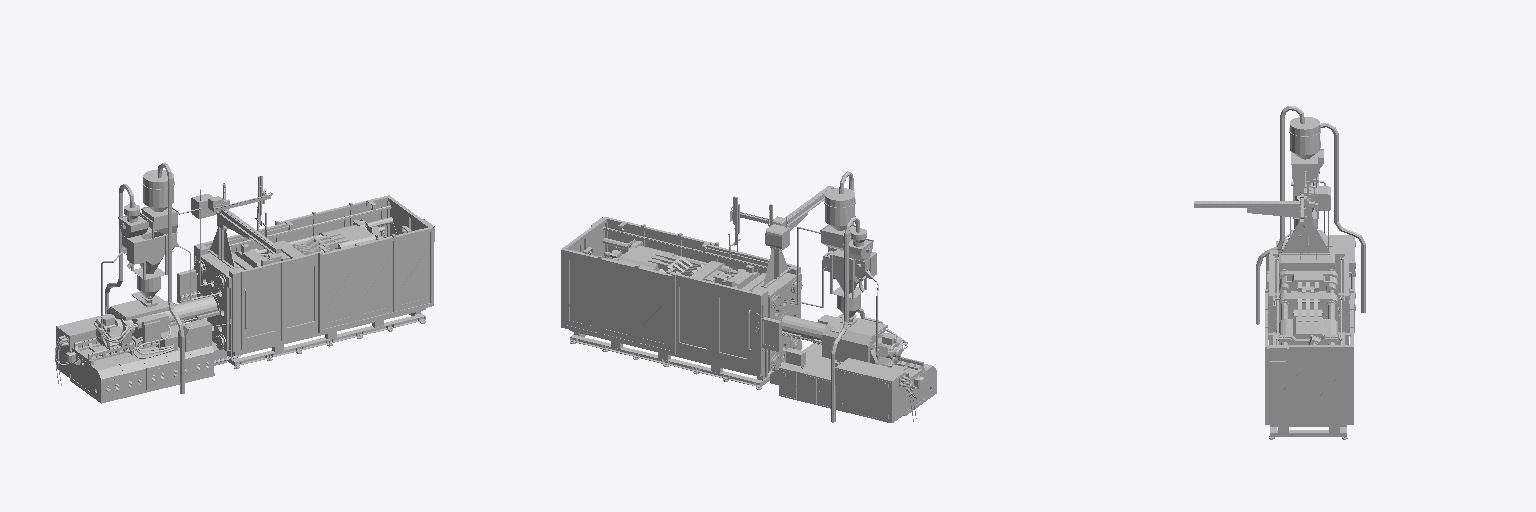
File: 台式电脑.obj
The picture shows the model from 3 angles: view 1: azimuth 30°, elevation 25°; view 2: azimuth 150°, elevation 25°; view 3: azimuth 270°, elevation 25°; orthographic projection.
Visible parts, largest first — view 1: F1_ZS_ZSJ_500T_650T_00, F1_ZS_ZSJ_500T_650T_03; view 2: F1_ZS_ZSJ_500T_650T_00, F1_ZS_ZSJ_500T_650T_03; view 3: F1_ZS_ZSJ_500T_650T_00, F1_ZS_ZSJ_500T_650T_03.
Part boxes in pixels (x1,y1,x2,y2): F1_ZS_ZSJ_500T_650T_00: (55, 163, 434, 403); F1_ZS_ZSJ_500T_650T_03: (235, 240, 303, 267); F1_ZS_ZSJ_500T_650T_00: (561, 171, 936, 422); F1_ZS_ZSJ_500T_650T_03: (690, 261, 759, 288); F1_ZS_ZSJ_500T_650T_00: (1194, 106, 1365, 439); F1_ZS_ZSJ_500T_650T_03: (1279, 271, 1338, 324).
Bounding box in the file's own units: 333 × 201 × 144.